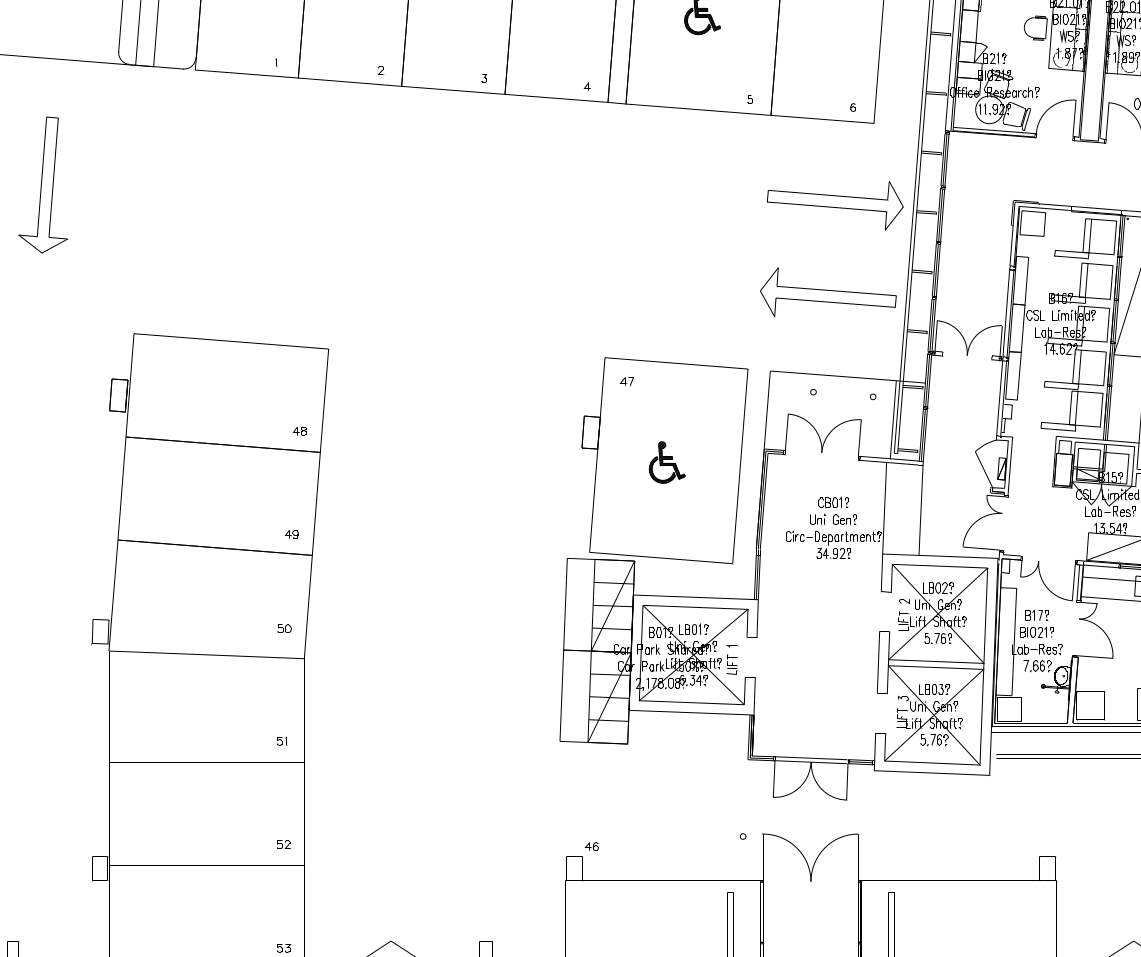door: (760, 826, 861, 889), (767, 750, 856, 812), (778, 405, 867, 467), (928, 309, 1007, 370), (1066, 598, 1121, 667), (1014, 549, 1076, 607), (956, 488, 1008, 553)
